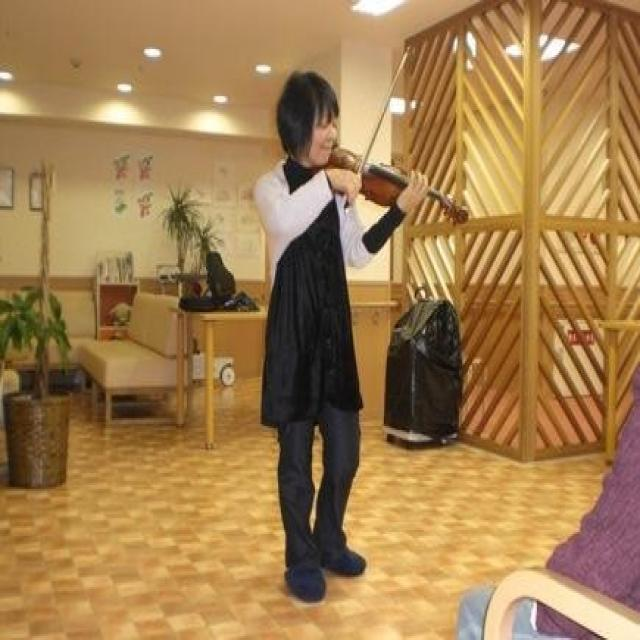violin: (312, 142, 471, 228)
